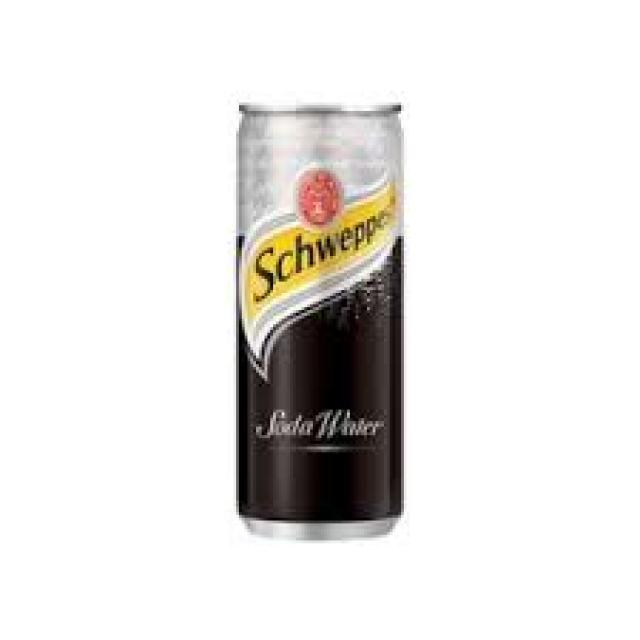Cans: (225, 88, 424, 546)
